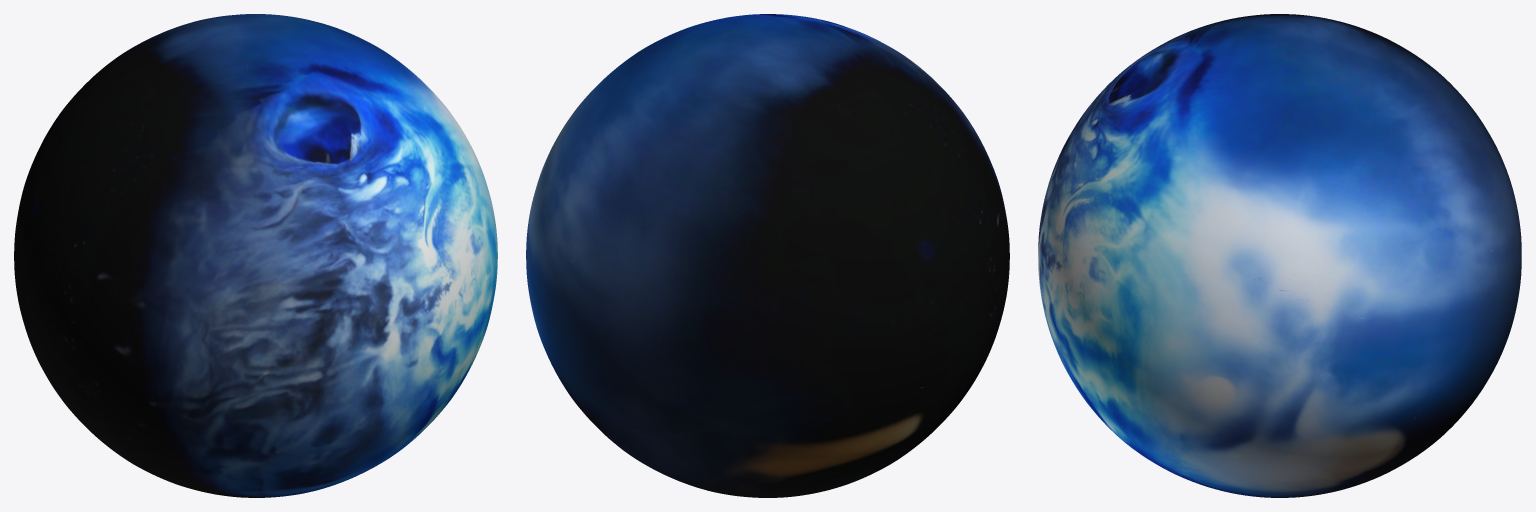
Rendered from mystic_blue.glb.
The picture shows the model from 3 angles, left to right: view 1: azimuth 30°, elevation 25°; view 2: azimuth 150°, elevation 25°; view 3: azimuth 270°, elevation 25°; orthographic projection.
Bounding box in the file's own units: 2 × 2 × 2.
Materials: 1 (1 with a texture image).
